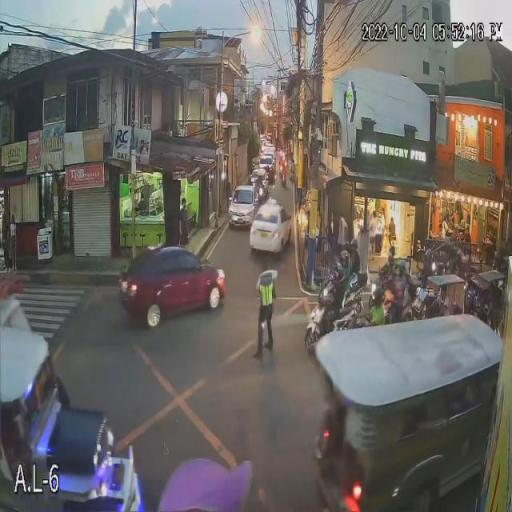helmet: (331, 247, 354, 270), (372, 288, 388, 308), (390, 262, 409, 274)
motorcycle: (304, 280, 360, 352)
rider: (324, 246, 351, 301), (379, 265, 406, 319), (365, 298, 386, 326)
